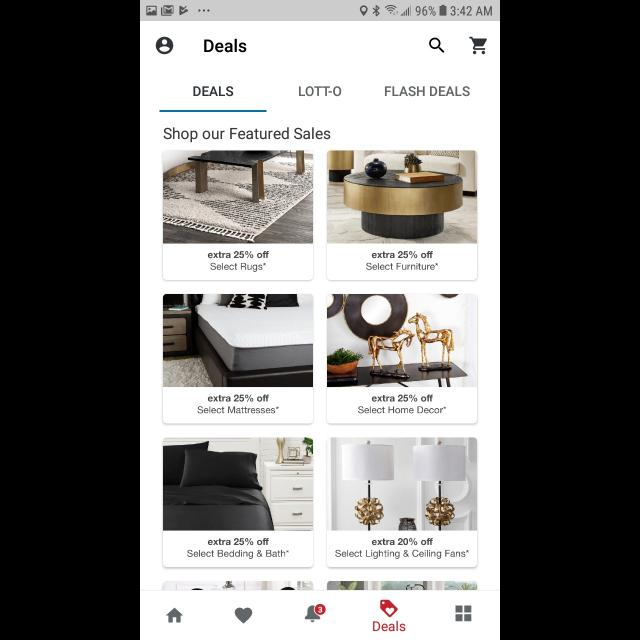icon: (304, 604, 326, 622), (380, 599, 398, 617), (469, 37, 487, 55), (156, 37, 174, 55), (235, 608, 253, 624), (166, 607, 184, 623), (456, 605, 472, 621), (429, 38, 445, 54)
image: (327, 294, 478, 388), (163, 294, 313, 388), (327, 150, 477, 244), (163, 150, 313, 244), (163, 438, 313, 530), (327, 438, 477, 530), (162, 582, 314, 590), (327, 582, 477, 590)
text: (335, 537, 469, 559), (164, 127, 330, 143), (187, 537, 289, 559), (358, 394, 446, 414), (197, 394, 279, 414), (208, 251, 270, 273), (366, 252, 438, 270), (386, 86, 470, 98), (205, 39, 248, 53), (298, 86, 342, 98), (194, 86, 234, 98), (374, 620, 406, 632)
uppertaskbar: (140, 1, 500, 22)
